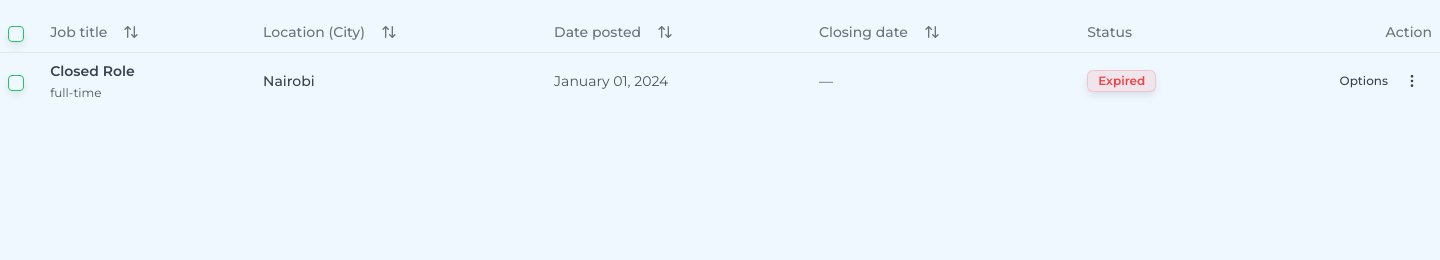
Test: JobListingTable reopen action › offers Reopen for a closed listing
Click the button "Options" at (1380, 80), box [1328,64,1432,96]
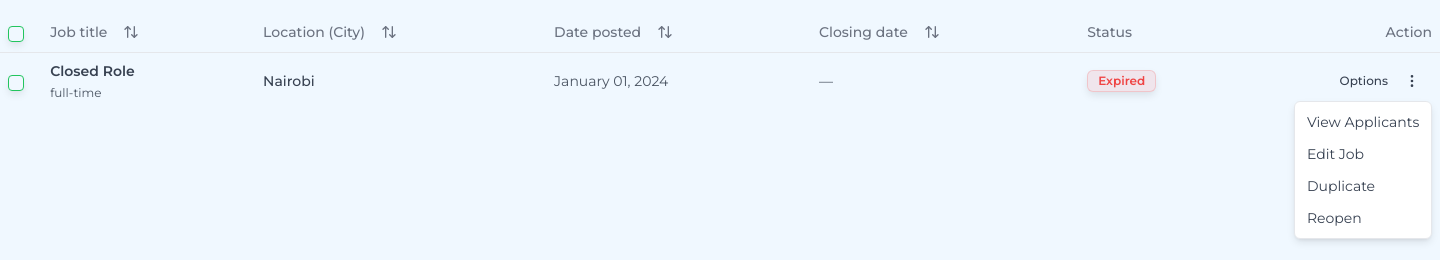
expect the menu item "Reopen" is shown: met, box [1307,209,1362,227]
